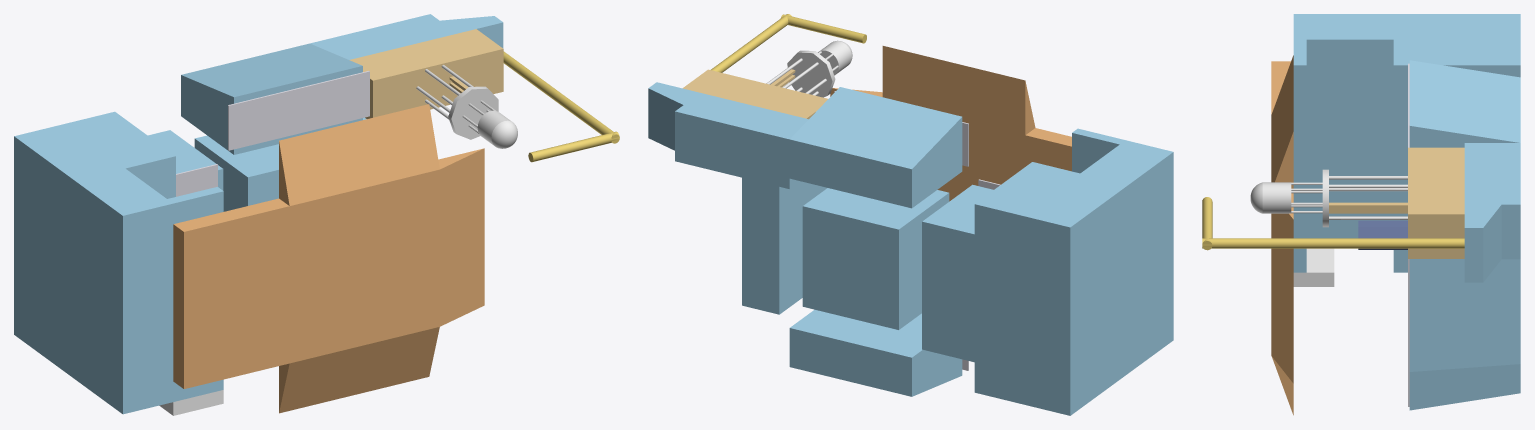
Rendered from COS_part_1.dae.
The picture shows the model from 3 angles, left to right: view 1: azimuth 30°, elevation 25°; view 2: azimuth 150°, elevation 25°; view 3: azimuth 270°, elevation 25°; orthographic projection. The views are drawn at different scales.
Parts seen in each view (by area): view 1: instance_0_017, instance_0_014, instance_0_004, instance_0_018, instance_0_008, instance_0_009, instance_0_012, instance_0_003, instance_0_038, instance_0_016, instance_0_021; view 2: instance_0_014, instance_0_004, instance_0_009, instance_0_017, instance_0_005, instance_0_018, instance_0_012, instance_0_003, instance_0_038; view 3: instance_0_014, instance_0_004, instance_0_017, instance_0_018, instance_0_005, instance_0_012, instance_0_021, instance_0_038, instance_0_015, instance_0_031, instance_0_003, instance_0_001 (+3 smaller).
Boxes of the visible parts, box(x1,y1,x2,y2) form: instance_0_017: box(173, 104, 484, 413); instance_0_014: box(14, 111, 223, 414); instance_0_004: box(181, 14, 503, 154); instance_0_018: box(349, 29, 503, 118); instance_0_008: box(228, 71, 369, 150); instance_0_009: box(194, 135, 278, 211); instance_0_012: box(503, 51, 619, 162); instance_0_003: box(448, 86, 498, 139); instance_0_038: box(477, 110, 517, 148); instance_0_016: box(176, 164, 217, 196); instance_0_021: box(159, 390, 223, 415); instance_0_014: box(922, 128, 1173, 415); instance_0_004: box(648, 82, 962, 314); instance_0_009: box(802, 188, 949, 329); instance_0_017: box(830, 46, 1071, 201); instance_0_005: box(789, 309, 962, 396); instance_0_018: box(682, 69, 827, 119); instance_0_012: box(711, 14, 866, 72); instance_0_003: box(787, 50, 835, 97); instance_0_038: box(818, 40, 852, 75); instance_0_014: box(1293, 14, 1520, 272); instance_0_004: box(1409, 60, 1520, 371); instance_0_017: box(1271, 55, 1293, 415); instance_0_018: box(1408, 147, 1464, 258); instance_0_005: box(1409, 364, 1520, 410); instance_0_012: box(1202, 197, 1464, 250); instance_0_021: box(1293, 248, 1334, 286); instance_0_038: box(1250, 182, 1291, 213); instance_0_015: box(1358, 220, 1407, 249); instance_0_031: box(1329, 202, 1407, 213); instance_0_003: box(1322, 169, 1328, 227); instance_0_001: box(1329, 184, 1407, 188).
Size of the model in its own units: 1187 by 669 by 678.
